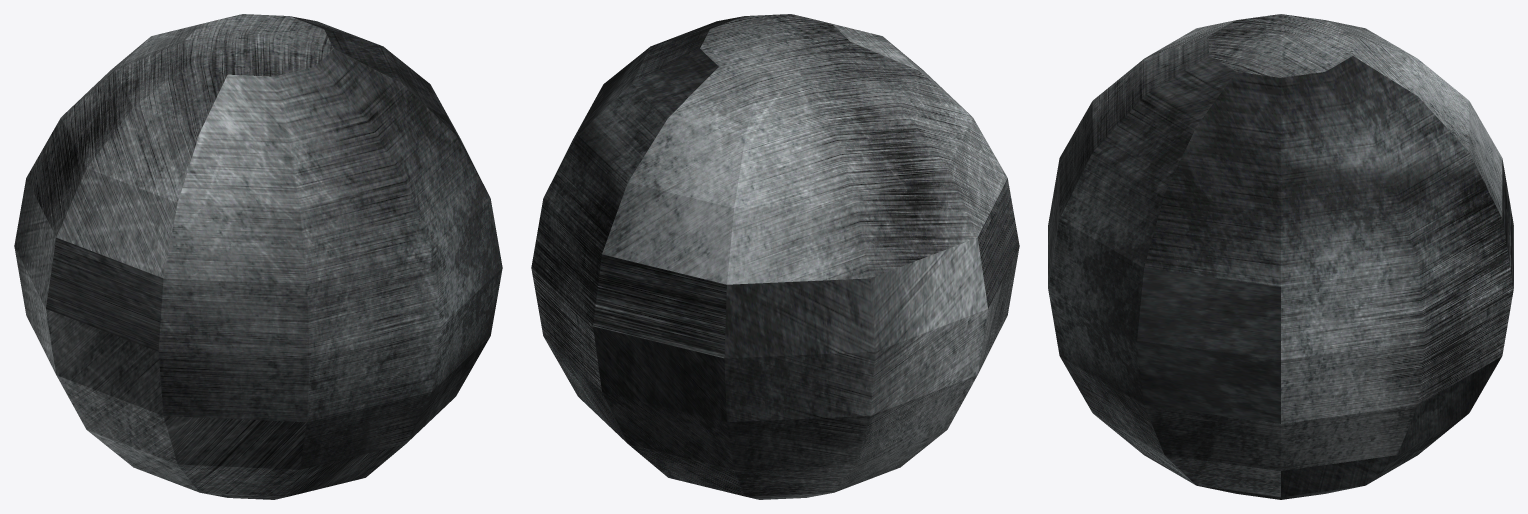
Rendered from CannonBall.obj.
3 views of the same model, side by side, from view 1: azimuth 30°, elevation 25°; view 2: azimuth 150°, elevation 25°; view 3: azimuth 270°, elevation 25° (orthographic).
Visible parts, largest first — view 1: pSphere4; view 2: pSphere4; view 3: pSphere4.
Part boxes in pixels (x1,y1,x2,y2): pSphere4: [14, 14, 502, 499]; pSphere4: [531, 14, 1019, 499]; pSphere4: [1048, 14, 1513, 499].
Bounding box in the file's own units: 0.519 × 0.519 × 0.4936.
